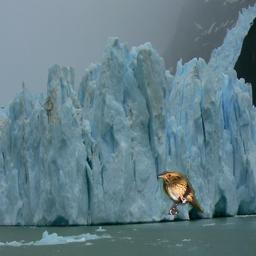Sparrow: (157, 171, 204, 215)
